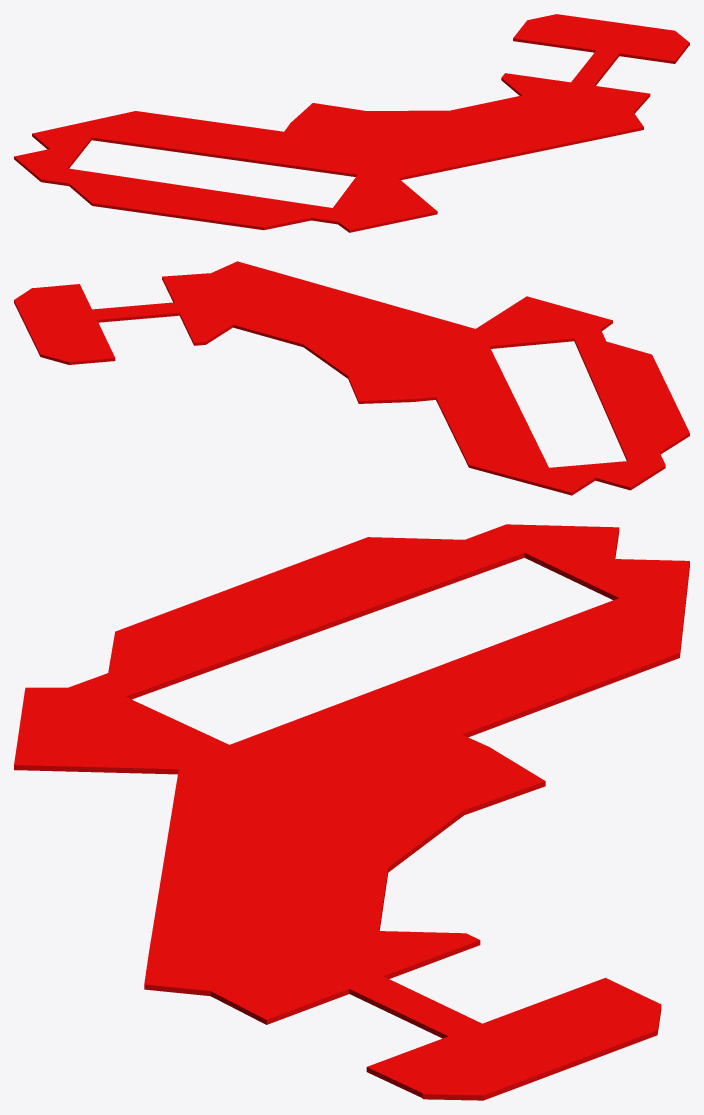
Rendered from 3dsec-m.gltf.
3 renders of one model, top to bottom at view 1: azimuth 30°, elevation 25°; view 2: azimuth 150°, elevation 25°; view 3: azimuth 270°, elevation 25°, orthographic. The views are drawn at different scales.
Visible parts, largest first — view 1: sec-m; view 2: sec-m; view 3: sec-m.
Part boxes in pixels (x1=…): sec-m: x1=14, y1=14, x2=689, y2=232; sec-m: x1=14, y1=261, x2=689, y2=495; sec-m: x1=14, y1=524, x2=689, y2=1100.
Size of the model in its own units: 120 by 0.52 by 60.11.
